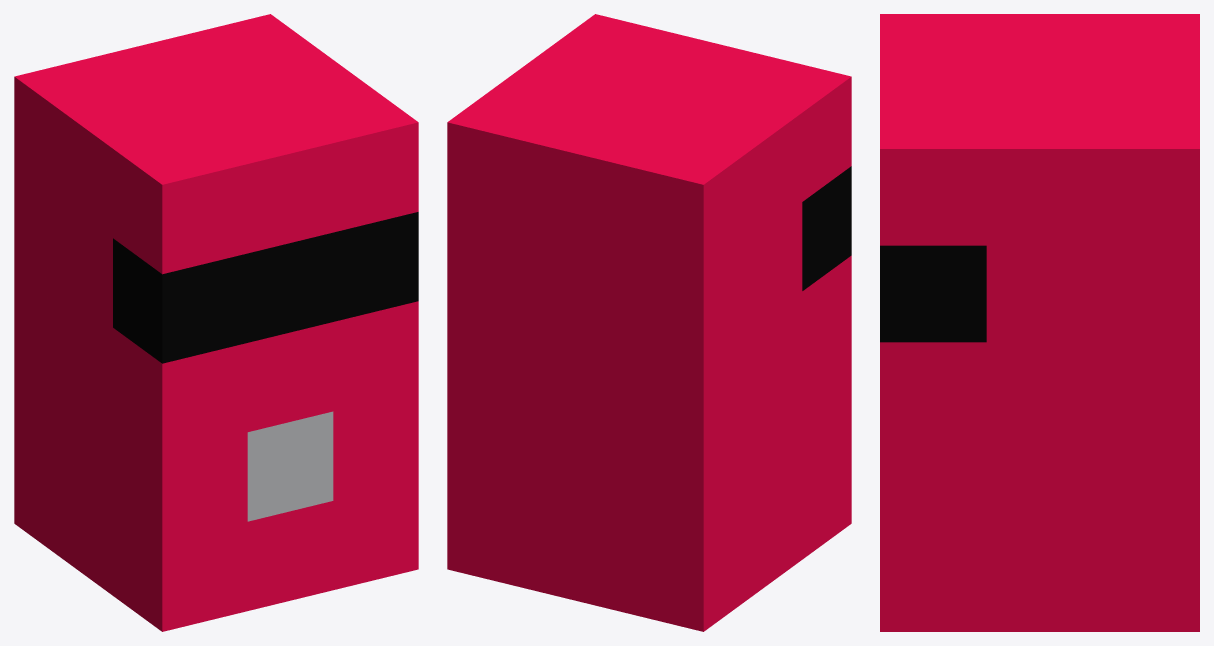
File: trashcan_a.obj
3 renders of one model, left to right at view 1: azimuth 30°, elevation 25°; view 2: azimuth 150°, elevation 25°; view 3: azimuth 270°, elevation 25°, orthographic. The views are drawn at different scales.
Bounding box in the file's own units: 0.3 × 0.5 × 0.3.
1 material, 1 textured.
